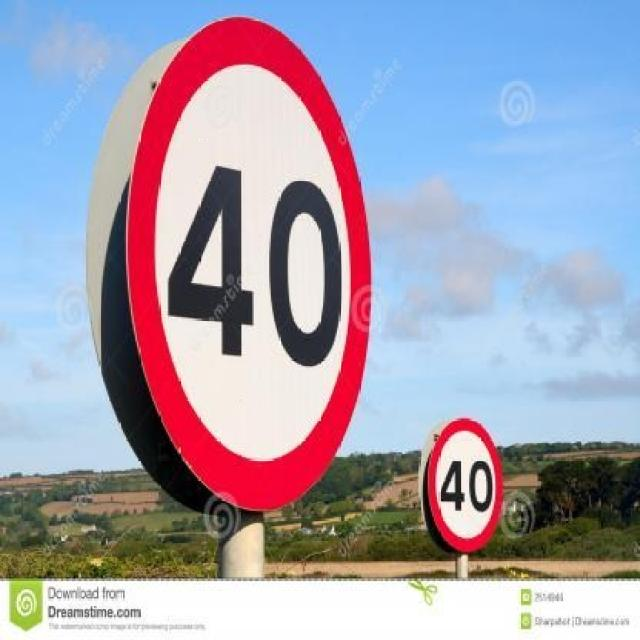forb_speed_over_40: (140, 17, 366, 508), (429, 427, 503, 550)
